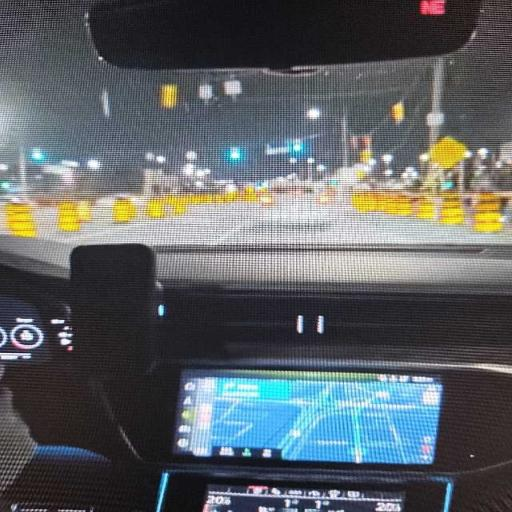car: (0, 0, 511, 511)
lane: (0, 199, 511, 267)
